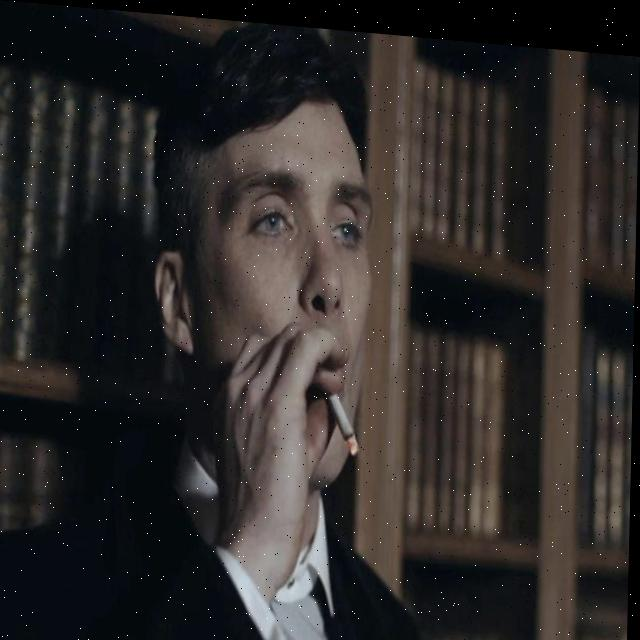cigarette: (327, 387, 364, 448)
